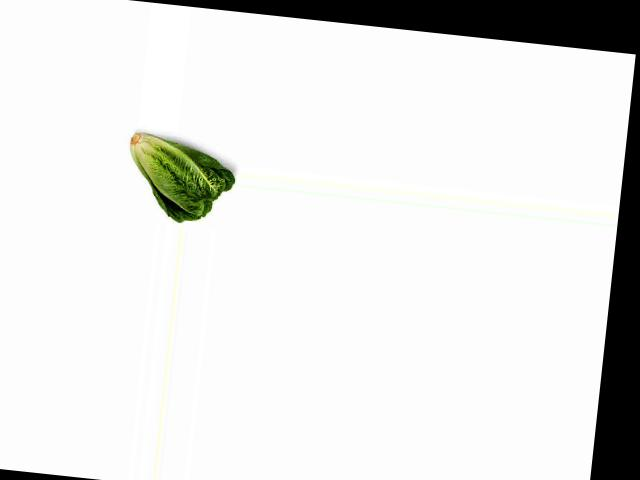lettuce: (120, 129, 238, 227)
